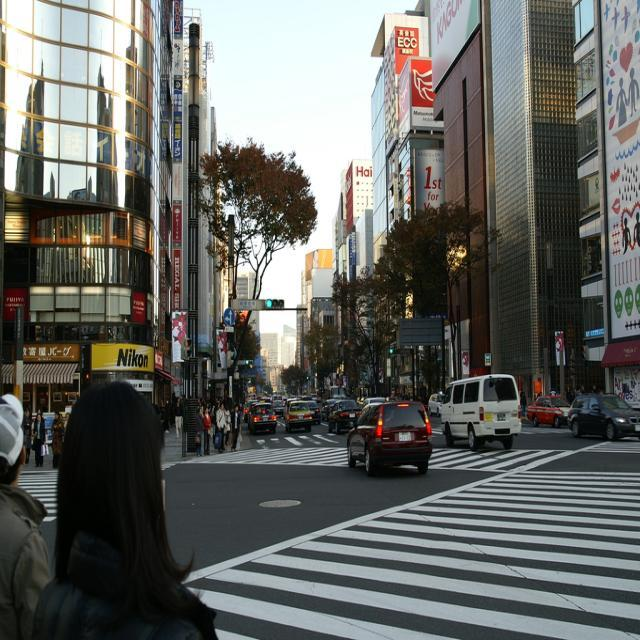traffic light: (262, 300, 285, 311)
